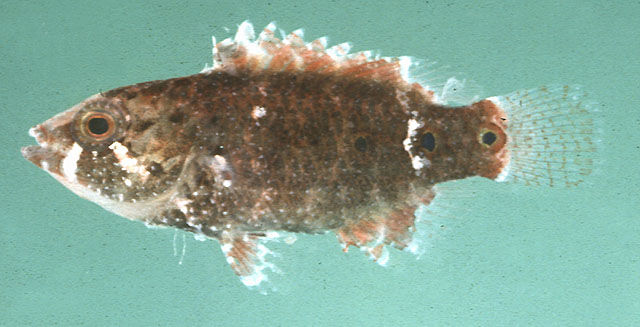fish: (22, 19, 601, 295)
